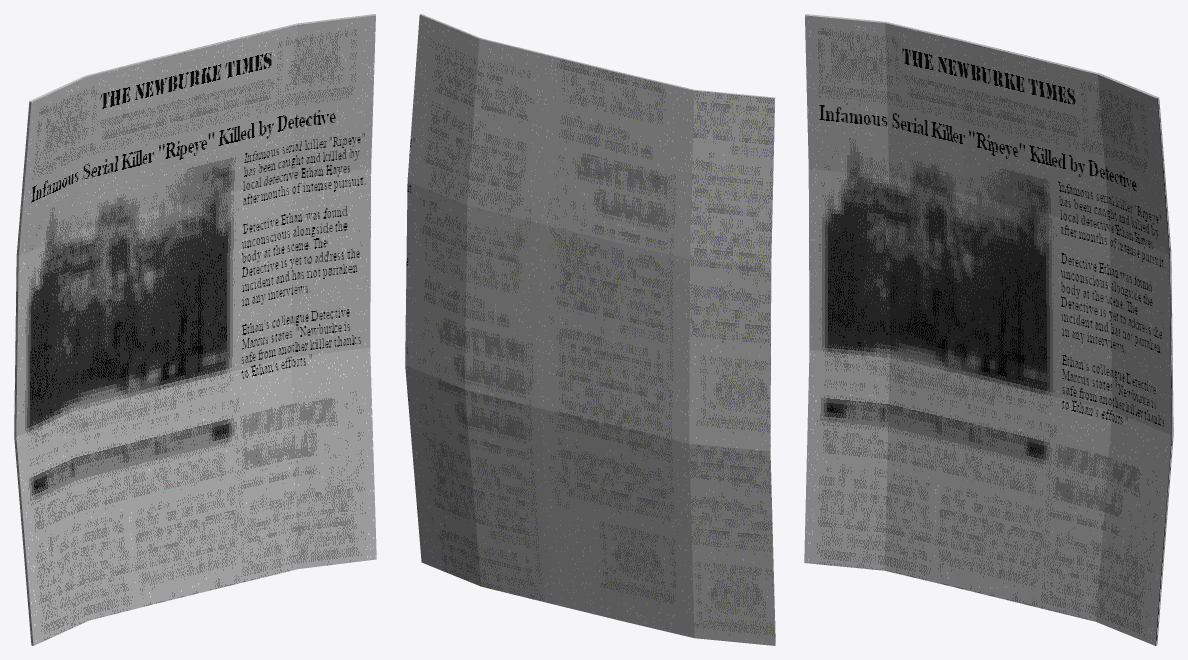
The model's file is Newspaper.glb.
3 renders of one model, left to right at view 1: azimuth 30°, elevation 25°; view 2: azimuth 150°, elevation 25°; view 3: azimuth 330°, elevation 25°, orthographic.
Parts seen in each view (by area): view 1: Newspaper; view 2: Newspaper; view 3: Newspaper.
Part boxes in pixels (bbox=[...]): Newspaper: bbox=[14, 14, 376, 645]; Newspaper: bbox=[405, 14, 775, 645]; Newspaper: bbox=[804, 14, 1173, 645].
Size of the model in its own units: 0.4945 by 0.7168 by 0.0615.
Materials: 1 (1 with a texture image).
